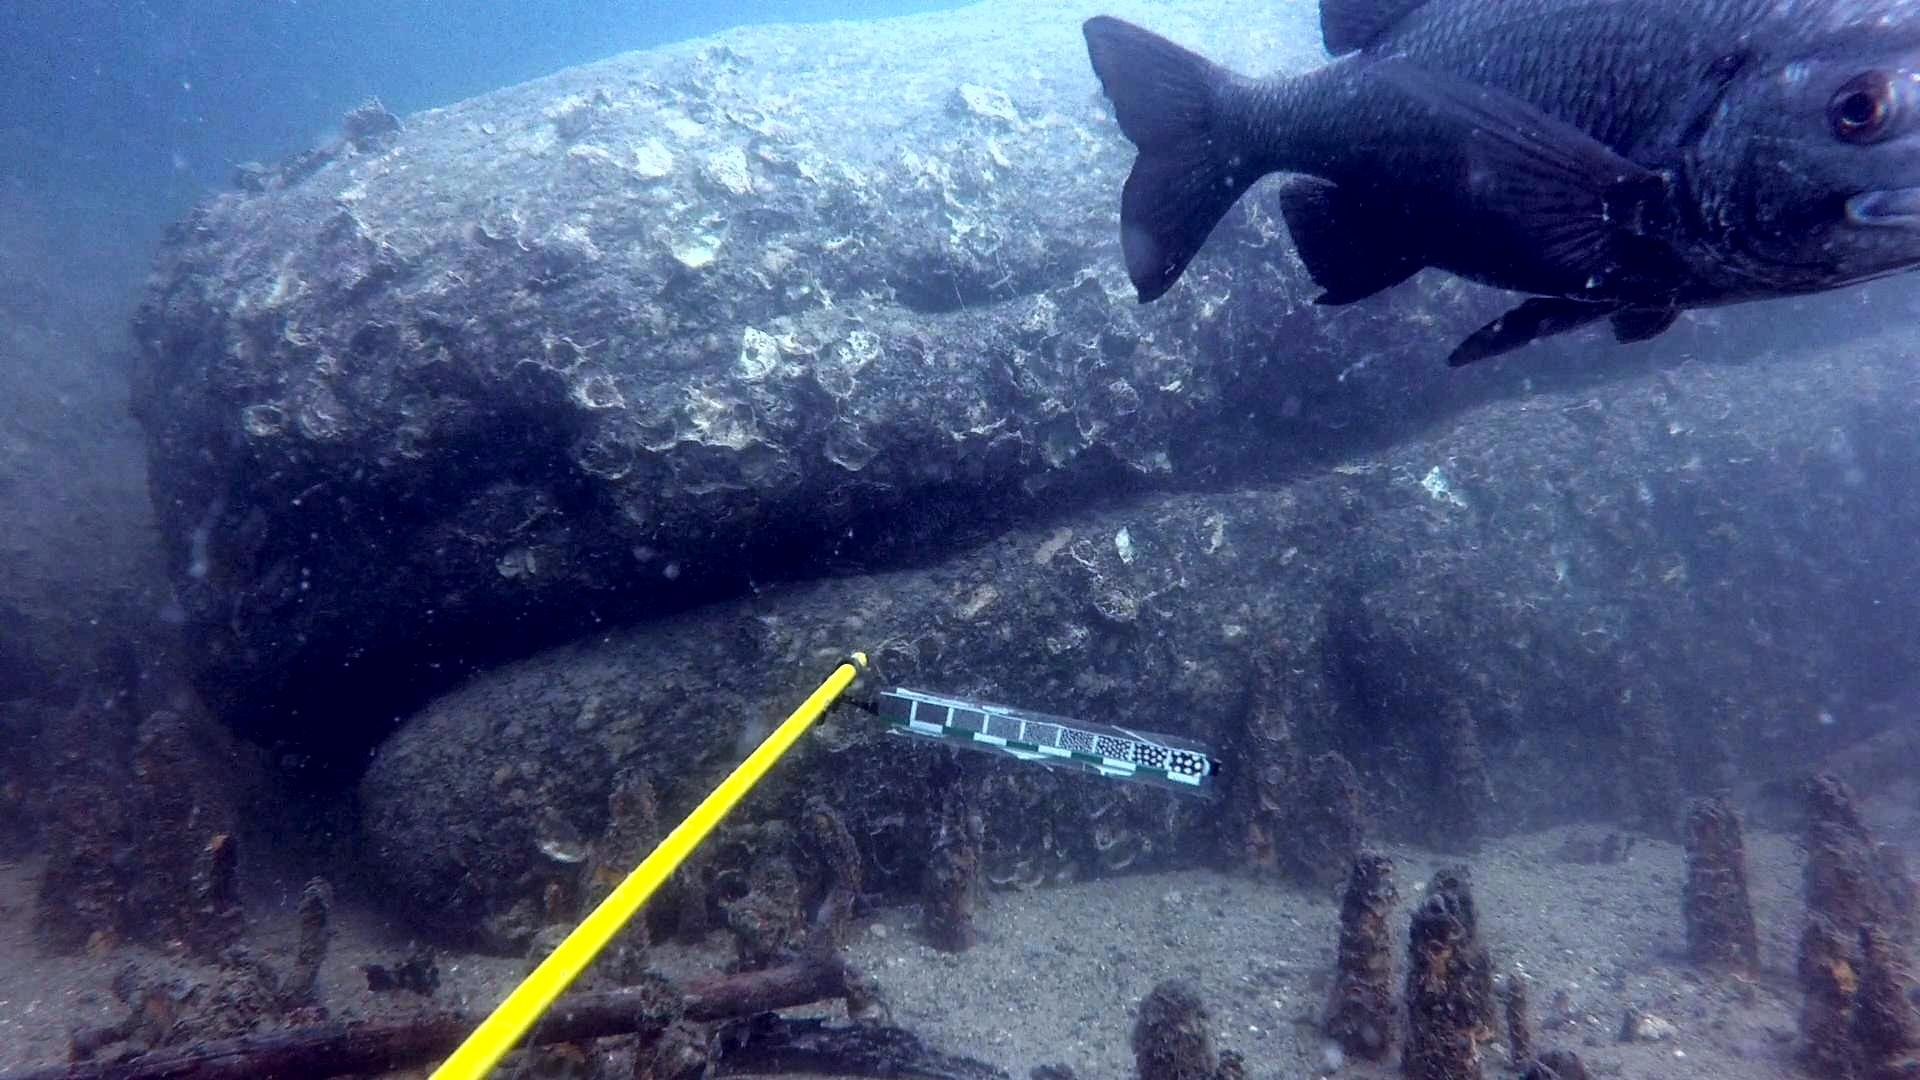acanthopagrus palmaris: (1083, 0, 1920, 367)
